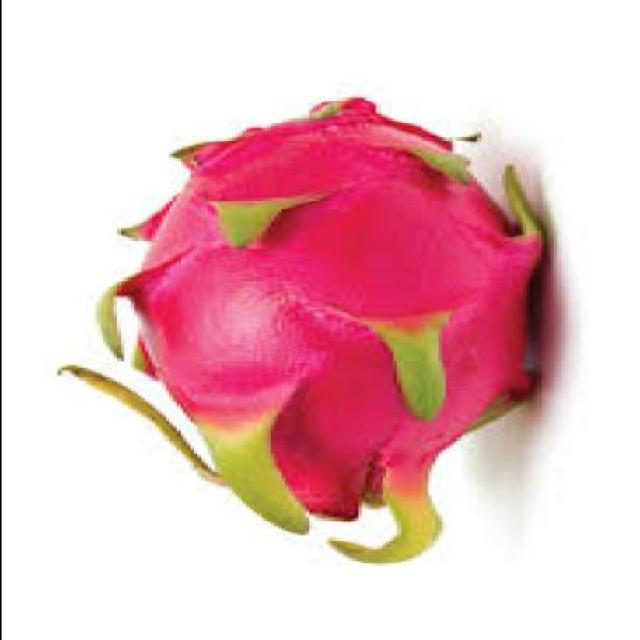BIODEGRADABLE: (53, 101, 545, 565)
